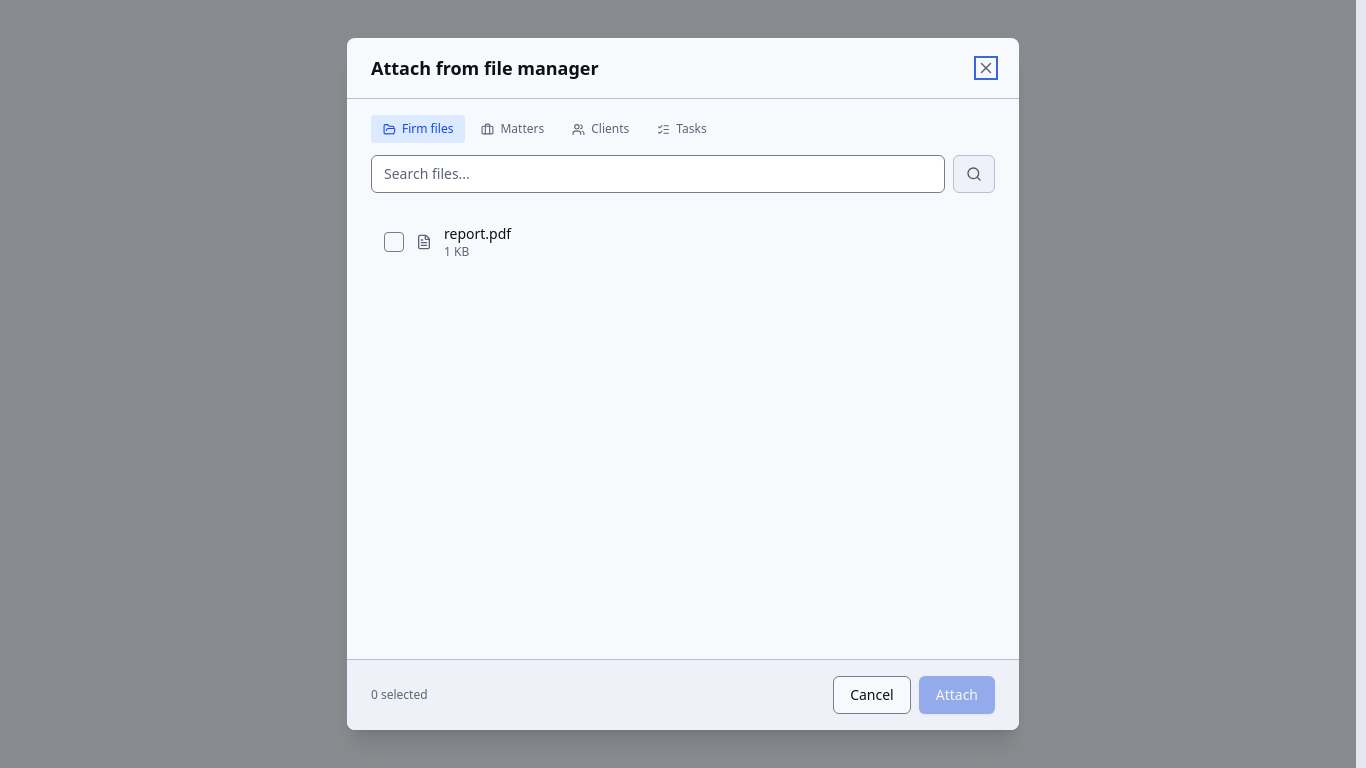
Test case: MessageFilePicker source lists › keeps the note off the file listing, which is a separate read
The width and height of the screenshot is (1366, 768).
Click the button "Matters" at (513, 129), box [470,115,556,143]
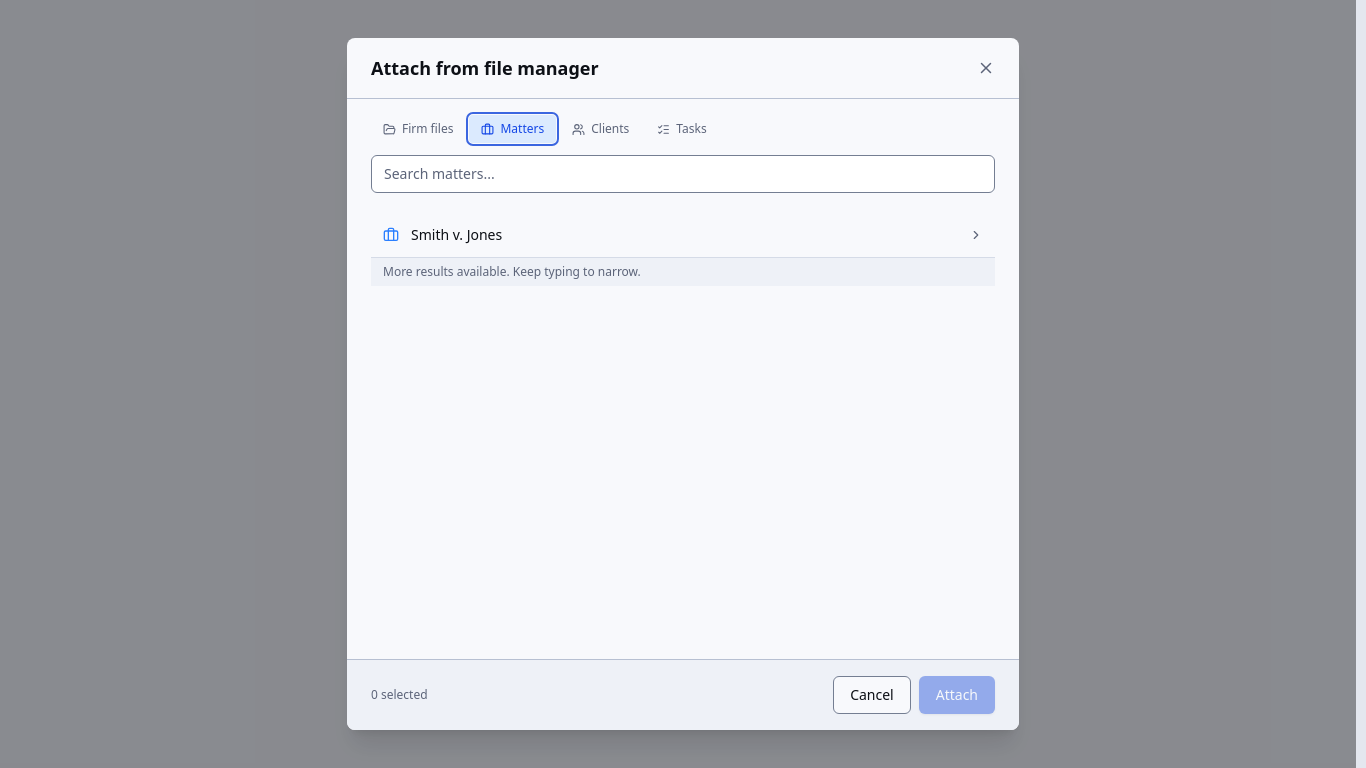
Now the text "More results available. Keep typing to narrow." is shown, box [371,257,995,286]
Note: Drilling into the matter swaps the picker list for that matter's files.
Click the button "Smith v. Jones" at (457, 235), box [371,213,995,257]
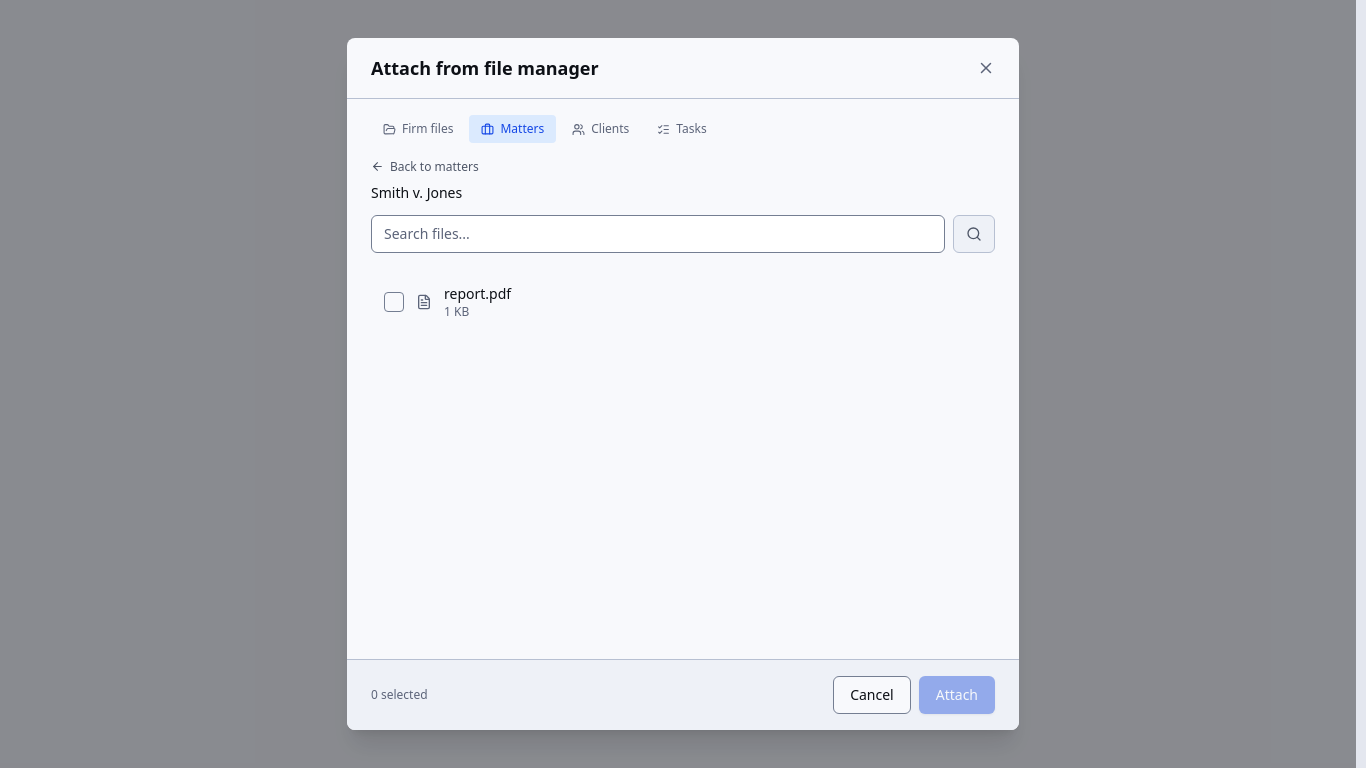
Now the text "report.pdf" is shown, box [444,284,511,303]
Now the text "Keep typing to narrow" is gone
